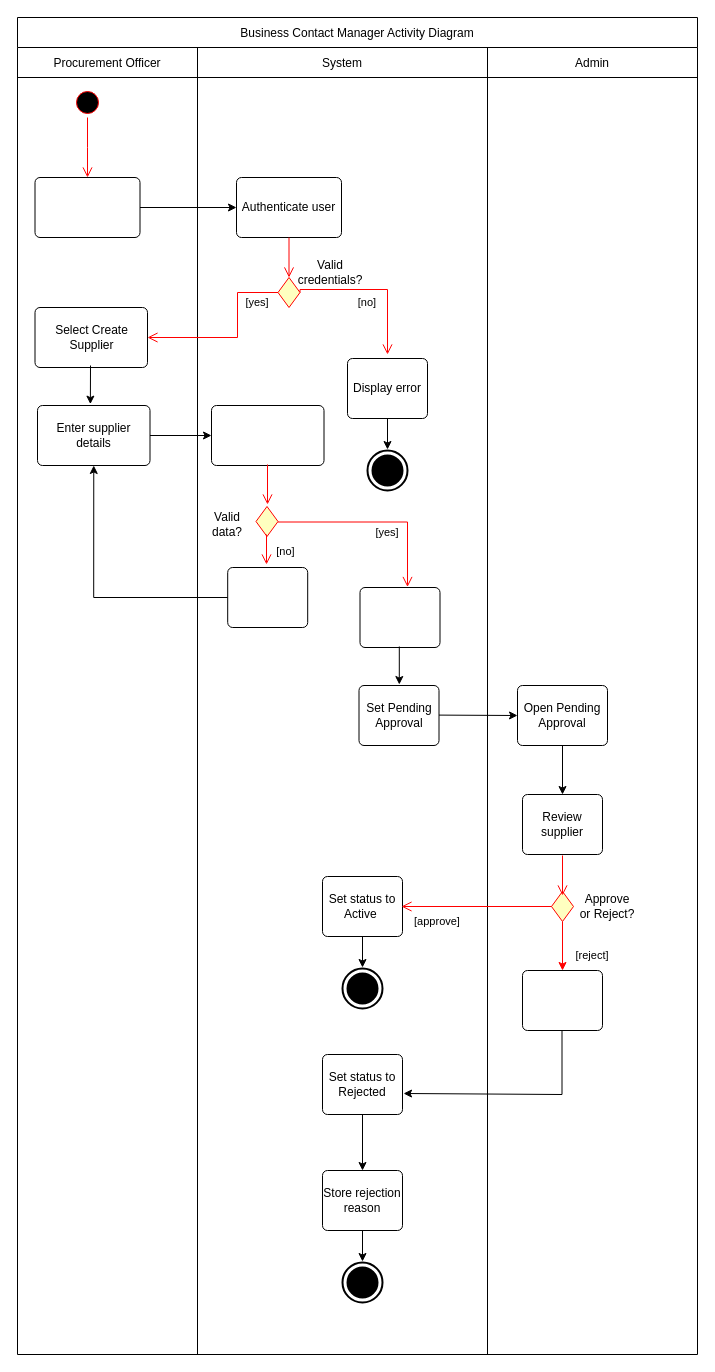
Image size: 715x1372. Some labels were removed from this diagram. The centre of each missing label's shape, as x and y in pixels:
Create supplier: (x=399, y=617)
Display validation: (x=267, y=597)
Enter rejection reason: (x=562, y=1000)
Log in: (x=87, y=207)
Validate required fields: (x=267, y=435)
